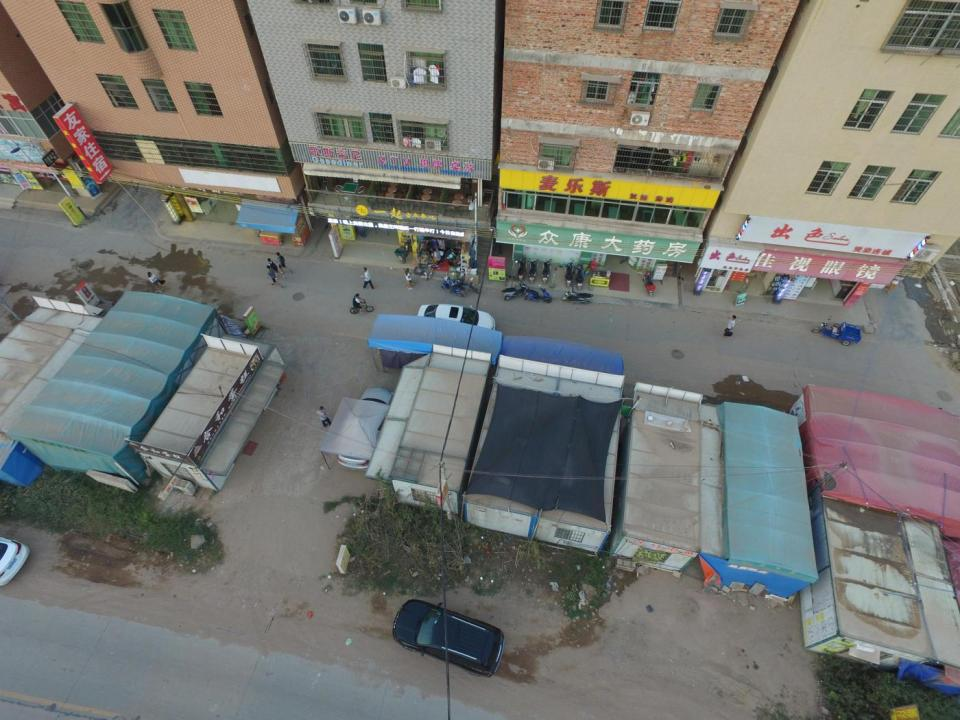car: (390, 598, 503, 676), (415, 304, 496, 340)
